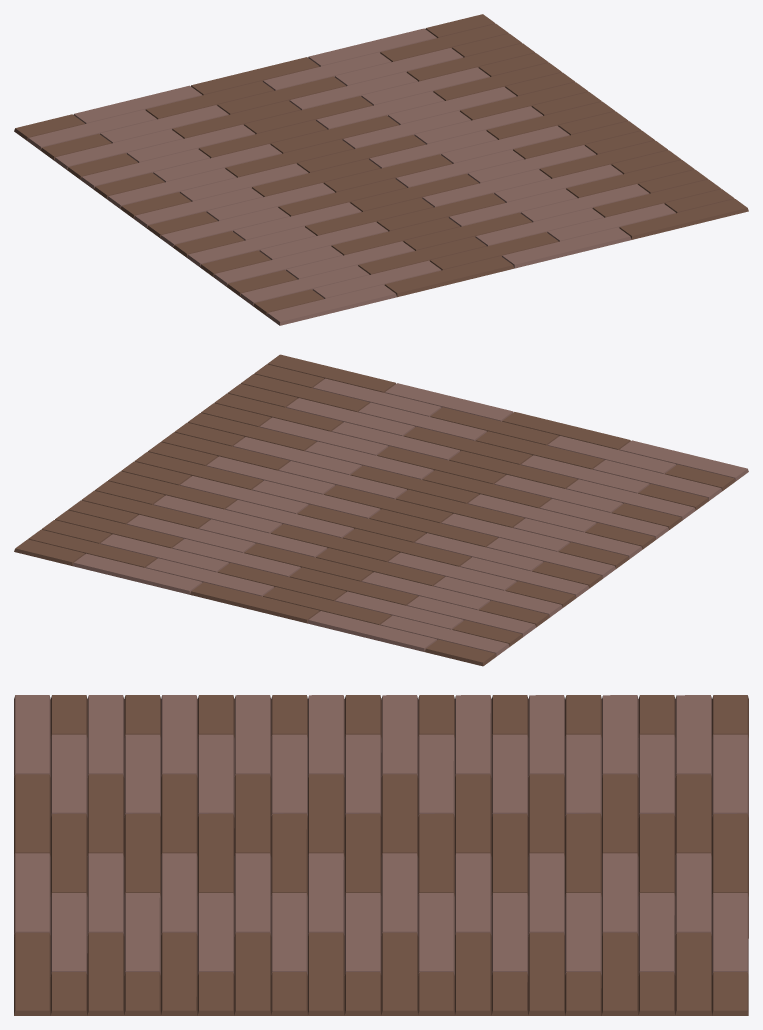
The model's file is Floor3.fbx.
3 views of the same model, one above another, from view 1: azimuth 30°, elevation 25°; view 2: azimuth 150°, elevation 25°; view 3: azimuth 270°, elevation 25° (orthographic). The views are drawn at different scales.
Visible parts, largest first — view 1: Floor3; view 2: Floor3; view 3: Floor3.
Boxes of the visible parts, box(x1,y1,x2,y2) form: Floor3: box(14, 14, 748, 325); Floor3: box(14, 354, 748, 666); Floor3: box(14, 695, 748, 1015).
Size of the model in its own units: 249 by 1.74 by 245.
